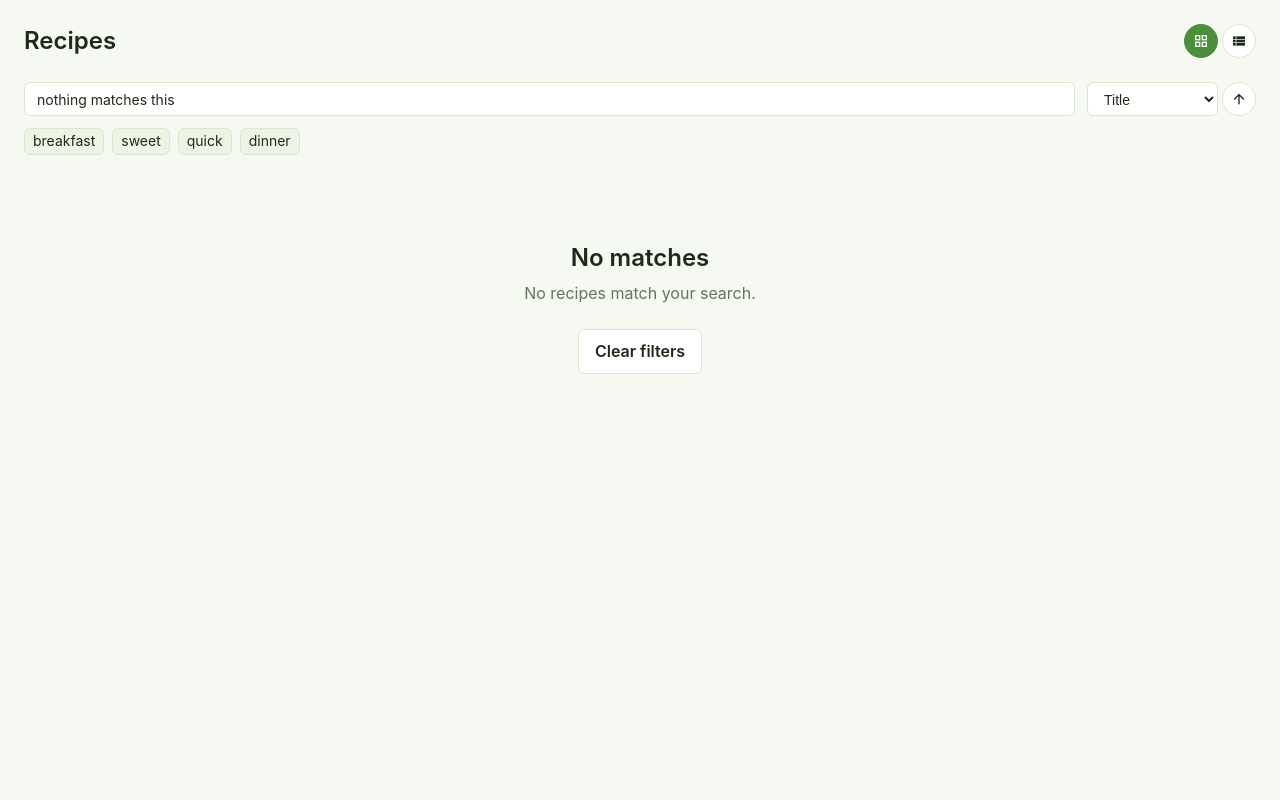
Test: RecipeListComponent › empty/error state › clicking "Clear filters" in the "no matches" state restores the full list
Click the button "Clear filters": {"x": 640, "y": 351} [578, 329, 702, 374]
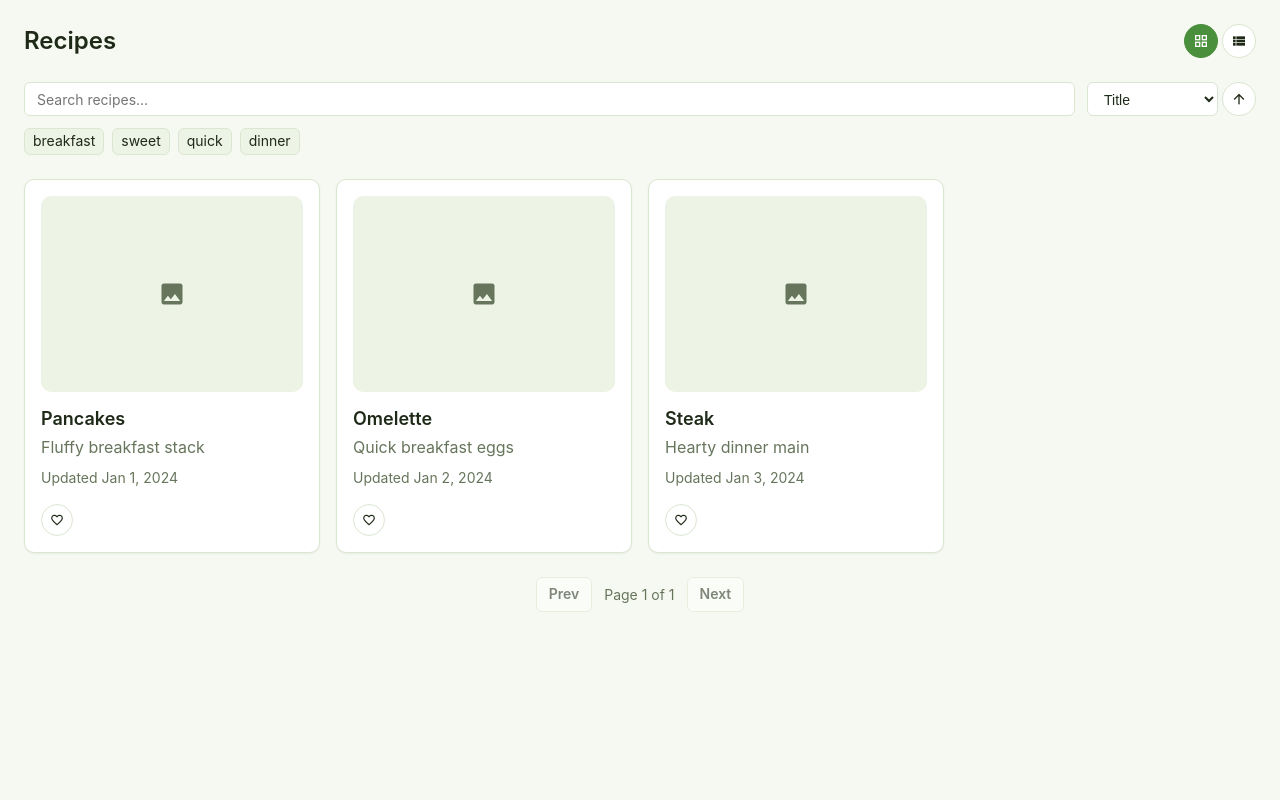
Now the text "No recipes match your search." is gone
